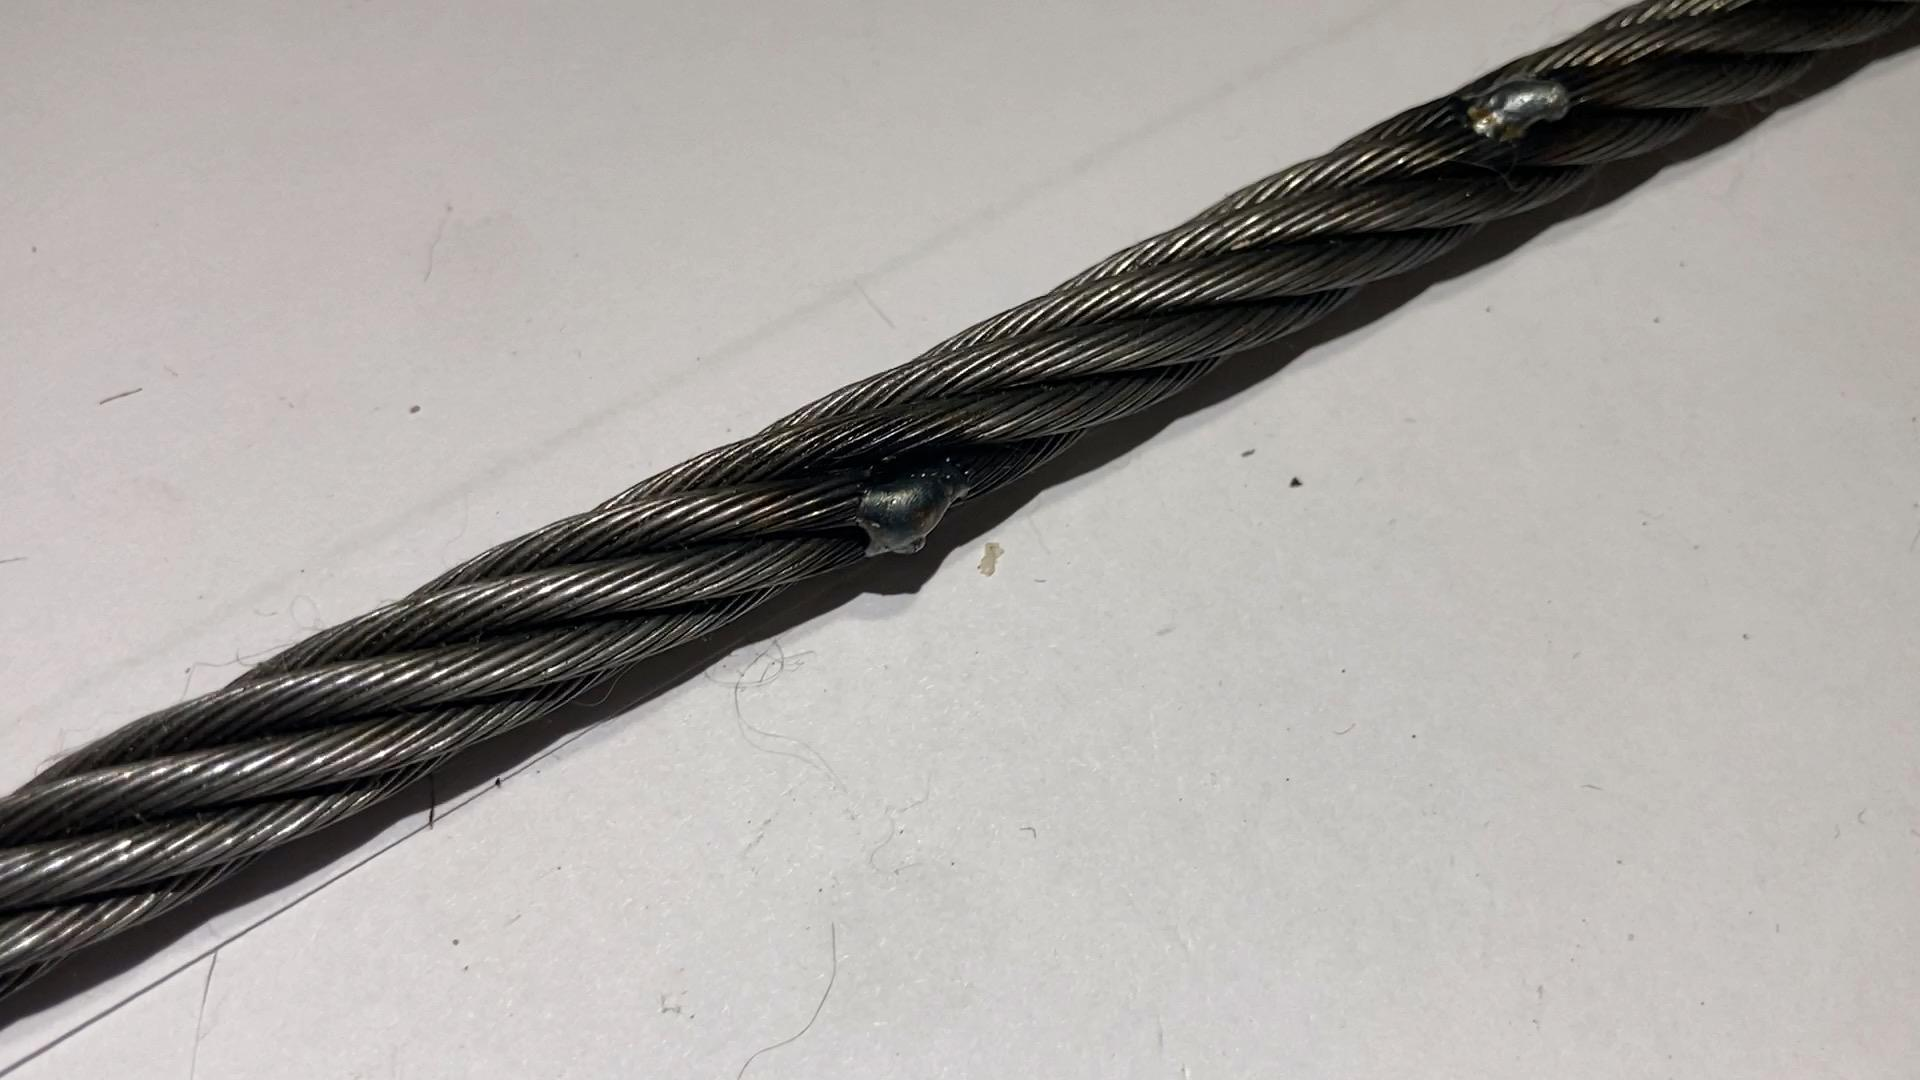thunderbolt: (872, 458, 997, 560), (1468, 70, 1601, 144)
